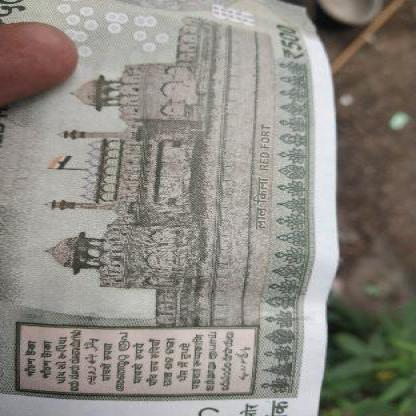New500Back: (0, 0, 339, 415)
